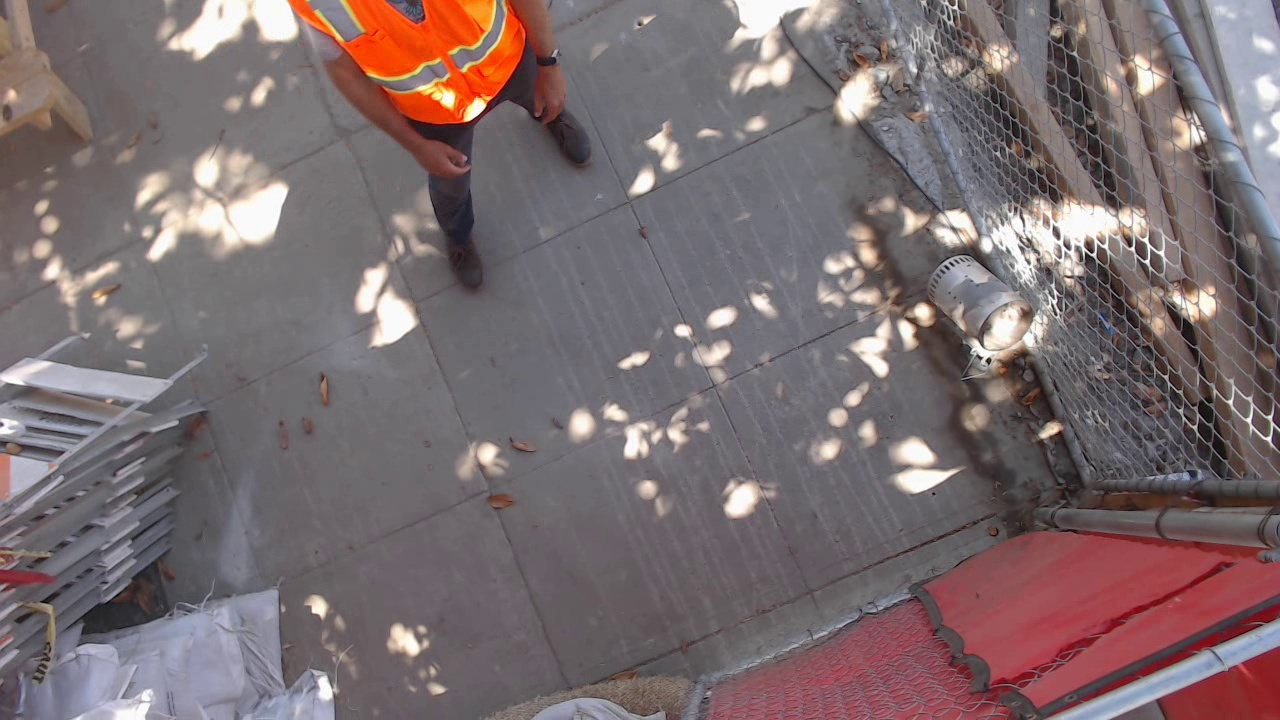person: (289, 1, 595, 295)
safetyvest: (293, 1, 528, 125)
